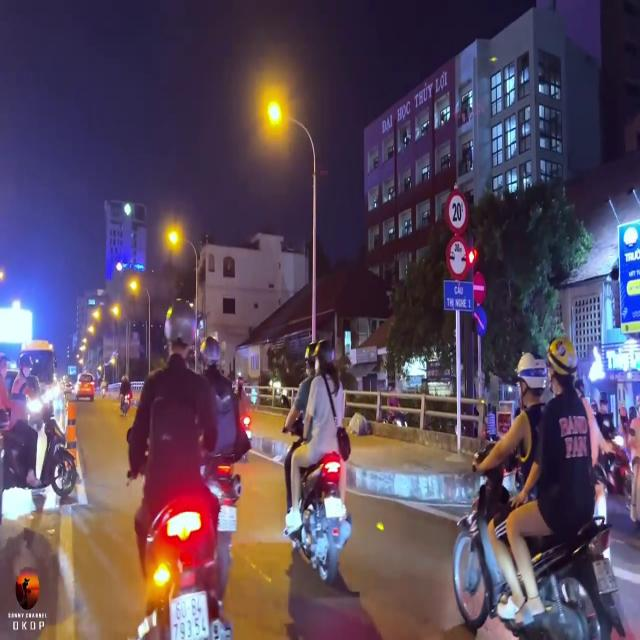bien_trang: (168, 593, 211, 640)
